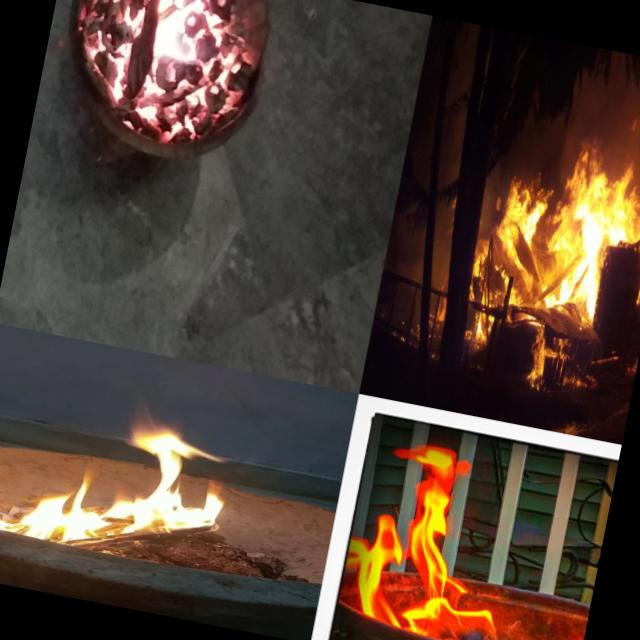fire: (0, 391, 240, 575), (342, 428, 532, 640), (83, 0, 267, 156), (531, 115, 640, 314), (467, 170, 553, 311), (525, 322, 591, 392), (462, 302, 498, 350), (628, 150, 640, 245), (621, 348, 640, 382), (564, 615, 588, 640), (634, 247, 640, 308)
